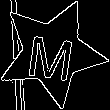M_N: (25, 24, 79, 81)
